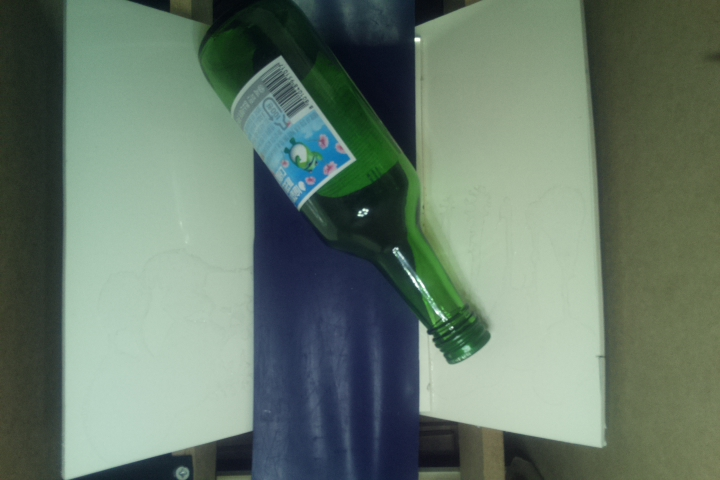soju: (193, 1, 490, 366)
